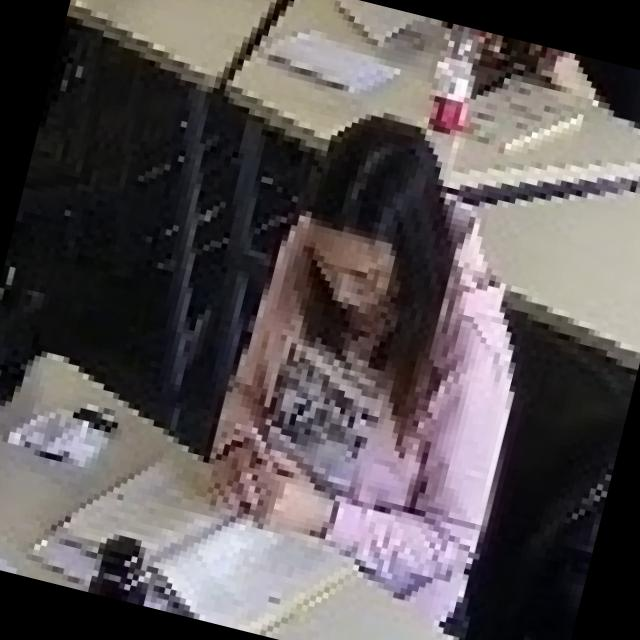write: (179, 91, 567, 612)
